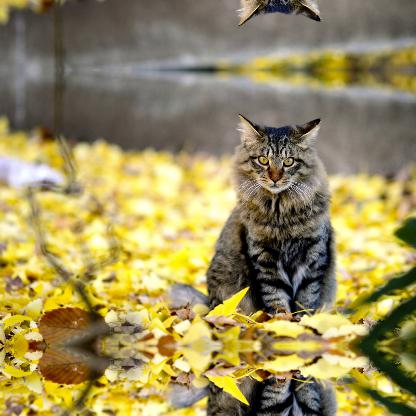Cat: (202, 110, 338, 320), (202, 371, 338, 415)
